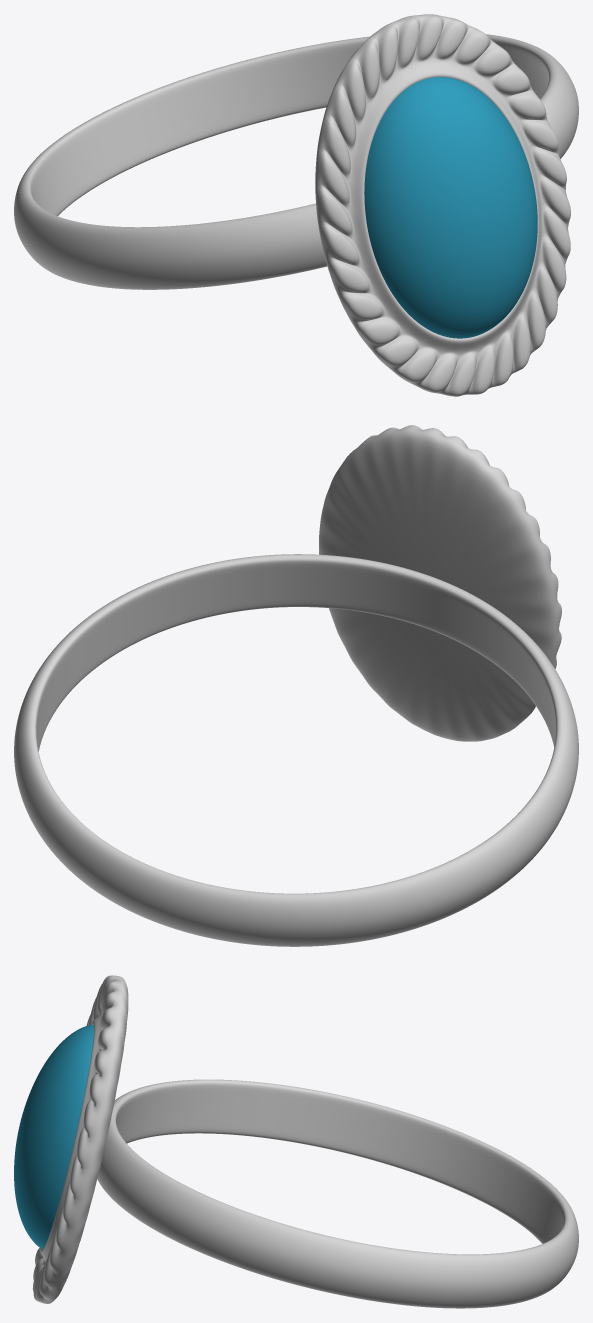
Rendered from turqoise.gltf.
3 renders of one model, top to bottom at view 1: azimuth 30°, elevation 25°; view 2: azimuth 150°, elevation 25°; view 3: azimuth 270°, elevation 25°, orthographic. The views are drawn at different scales.
Parts seen in each view (by area): view 1: Mesh_0, Mesh_1, Mesh_4; view 2: Mesh_0, Mesh_1; view 3: Mesh_0, Mesh_1, Mesh_4.
Boxes of the visible parts, x1,y1,x2,y2 form: Mesh_0: (14, 34, 578, 289); Mesh_1: (315, 14, 570, 396); Mesh_4: (364, 77, 537, 338); Mesh_0: (14, 554, 578, 946); Mesh_1: (319, 425, 561, 741); Mesh_0: (97, 1079, 578, 1308); Mesh_1: (32, 975, 128, 1303); Mesh_4: (14, 1024, 93, 1249).
Size of the model in its own units: 2.04 by 1.38 by 2.32.
Materials: 3 (1 with a texture image).
